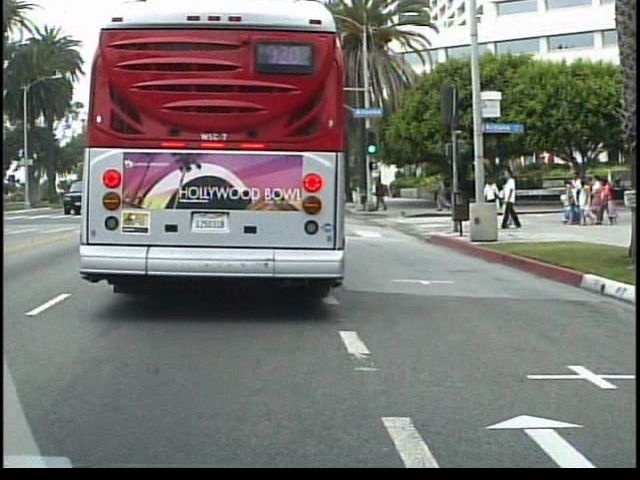person: (500, 166, 524, 234), (482, 174, 503, 225), (372, 176, 393, 216), (435, 174, 453, 215)
